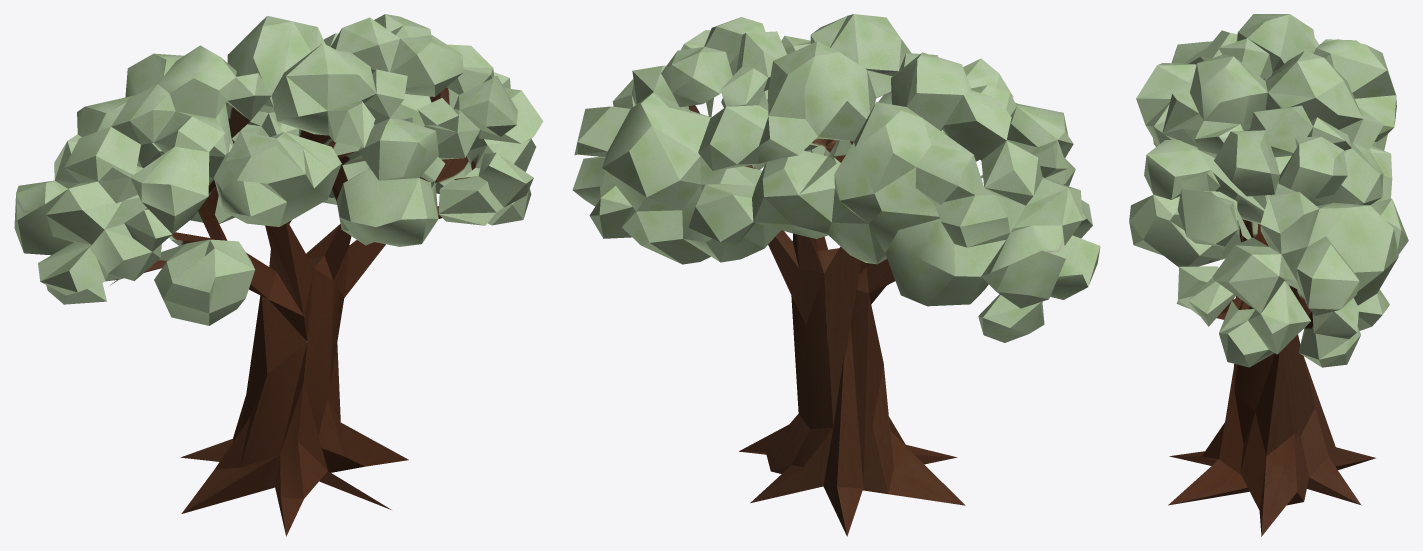
Rendered from oak.glb.
3 views of the same model, side by side, from view 1: azimuth 30°, elevation 25°; view 2: azimuth 150°, elevation 25°; view 3: azimuth 270°, elevation 25° (orthographic). The views are drawn at different scales.
Bounding box in the file's own units: 1.88 × 1.65 × 0.9638.
1 material, 1 textured.
